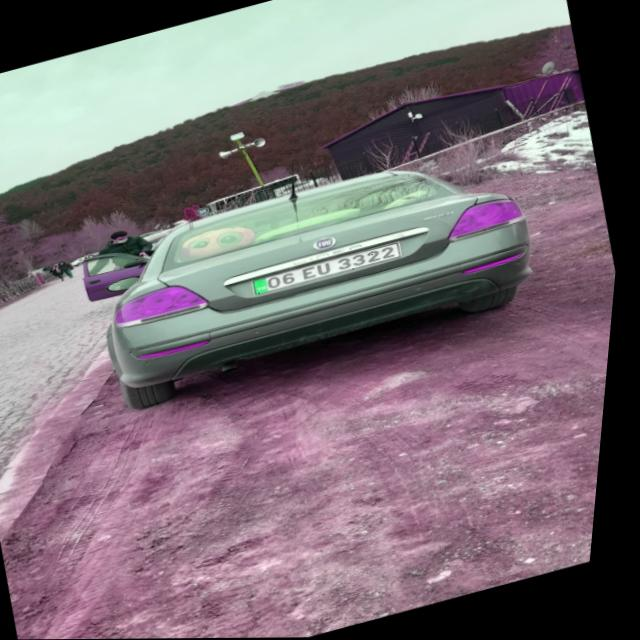plate: (255, 241, 407, 296)
